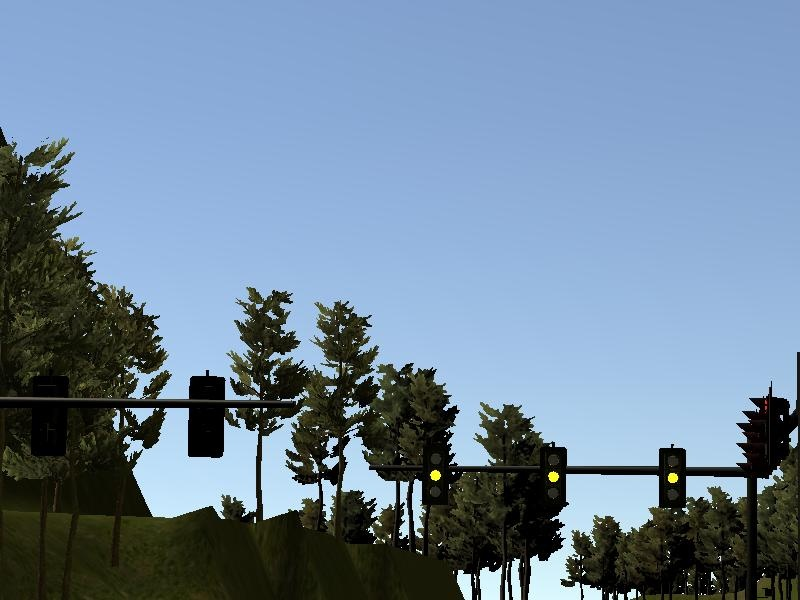yellow: (654, 441, 690, 513), (419, 441, 452, 510), (537, 442, 569, 512)
